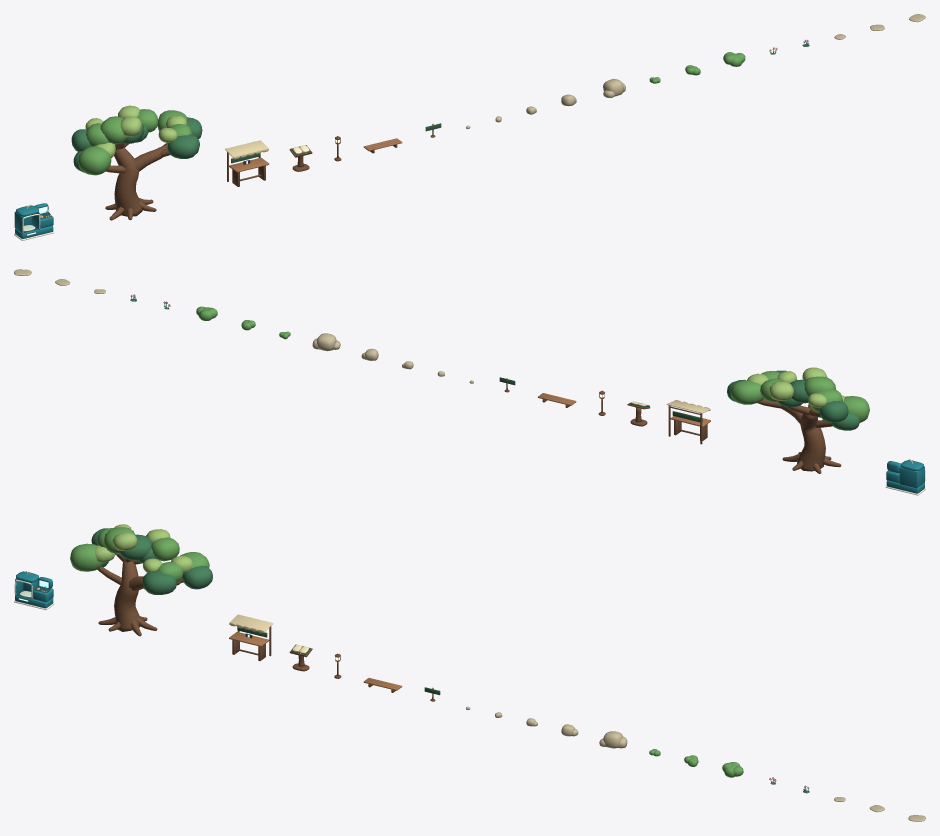
File: stations.fbx
3 views of the same model, one above another, from view 1: azimuth 30°, elevation 25°; view 2: azimuth 150°, elevation 25°; view 3: azimuth 330°, elevation 25° (orthographic).
Parts seen in each view (by area): view 1: HatchTree_Canopy_Mid, HatchTree_Trunk, HatchTree_Canopy_Dark, HatchTree_Canopy_Light, CareMachine_Body, Workbench_Awning; view 2: HatchTree_Canopy_Mid, HatchTree_Trunk, HatchTree_Canopy_Dark, HatchTree_Canopy_Light, CareMachine_Body; view 3: HatchTree_Canopy_Mid, HatchTree_Trunk, HatchTree_Canopy_Dark, HatchTree_Canopy_Light, CareMachine_Body.
Part boxes in pixels (bbox=[...]): HatchTree_Canopy_Mid: bbox=[78, 109, 192, 175]; HatchTree_Trunk: bbox=[105, 142, 170, 220]; HatchTree_Canopy_Dark: bbox=[71, 117, 202, 171]; HatchTree_Canopy_Light: bbox=[85, 105, 186, 157]; CareMachine_Body: bbox=[14, 203, 53, 238]; Workbench_Awning: bbox=[225, 140, 268, 159]; HatchTree_Canopy_Mid: bbox=[730, 371, 869, 422]; HatchTree_Trunk: bbox=[757, 398, 841, 473]; HatchTree_Canopy_Dark: bbox=[727, 370, 860, 430]; HatchTree_Canopy_Light: bbox=[747, 367, 844, 407]; CareMachine_Body: bbox=[886, 460, 924, 493]; HatchTree_Canopy_Mid: bbox=[70, 527, 209, 581]; HatchTree_Trunk: bbox=[97, 554, 183, 636]; HatchTree_Canopy_Dark: bbox=[91, 528, 212, 594]; HatchTree_Canopy_Light: bbox=[94, 524, 192, 573]; CareMachine_Body: bbox=[15, 571, 53, 608].
Bounding box in the file's own units: 143 × 14.27 × 11.27.
